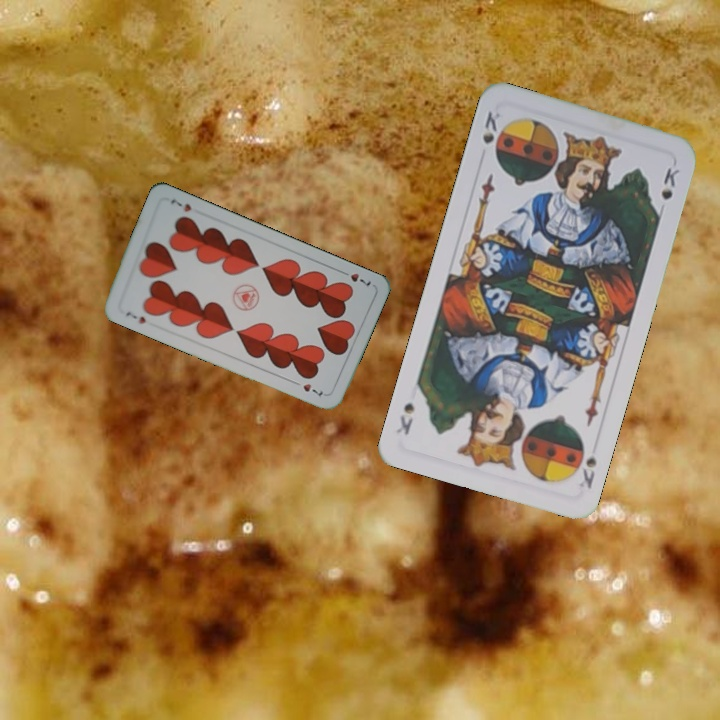H7: (336, 266, 374, 289), (122, 307, 148, 327)
SK: (573, 450, 600, 494), (478, 107, 503, 147)
